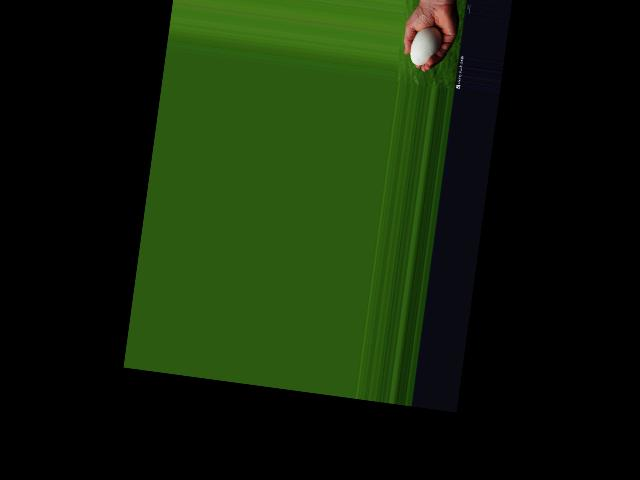egg: (408, 23, 444, 67)
